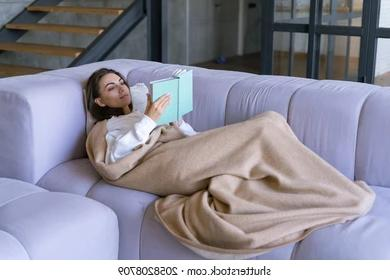blanket: (85, 109, 377, 261)
sweater: (104, 107, 200, 167)
